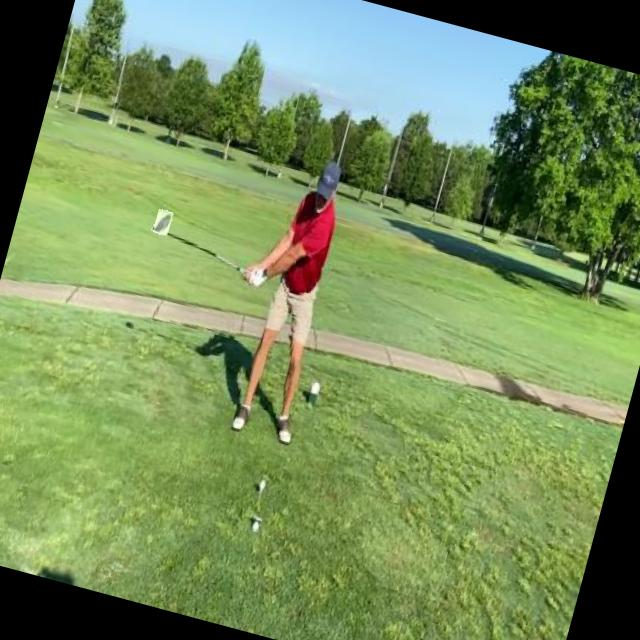club head: (152, 208, 173, 236)
